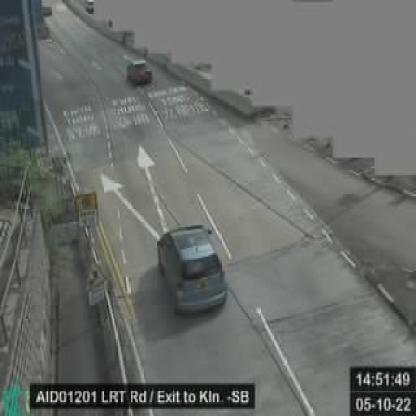Car: (155, 224, 226, 310), (125, 57, 153, 85)
